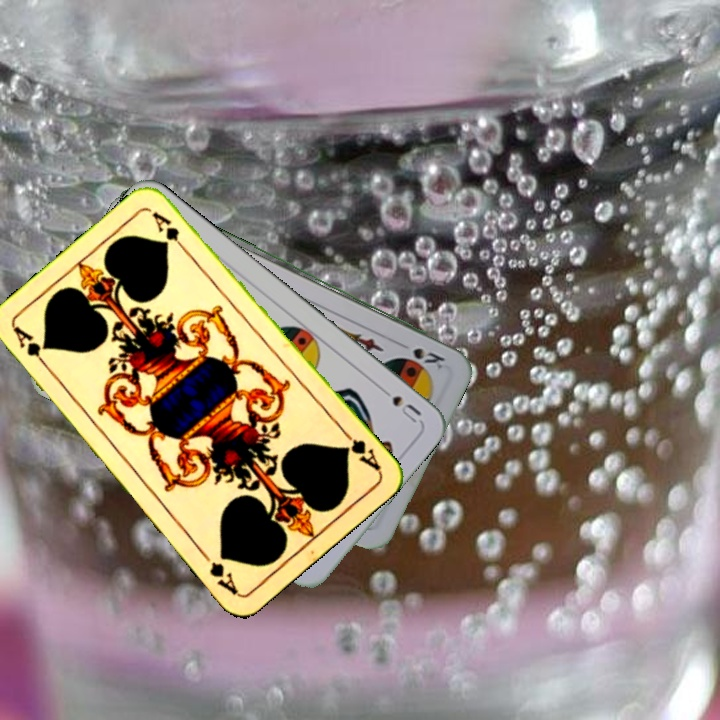GA: (337, 426, 384, 474), (9, 322, 53, 373)
SK: (408, 344, 448, 372)
SU: (374, 381, 424, 426)
